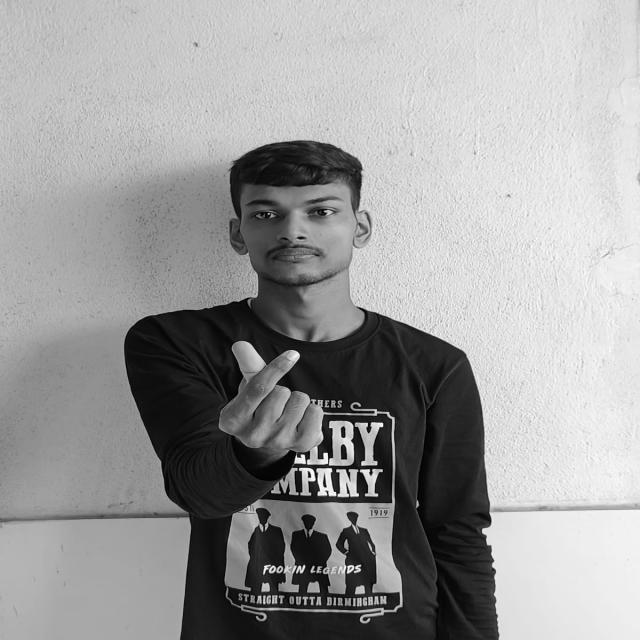Grattitude: (210, 340, 334, 460)
